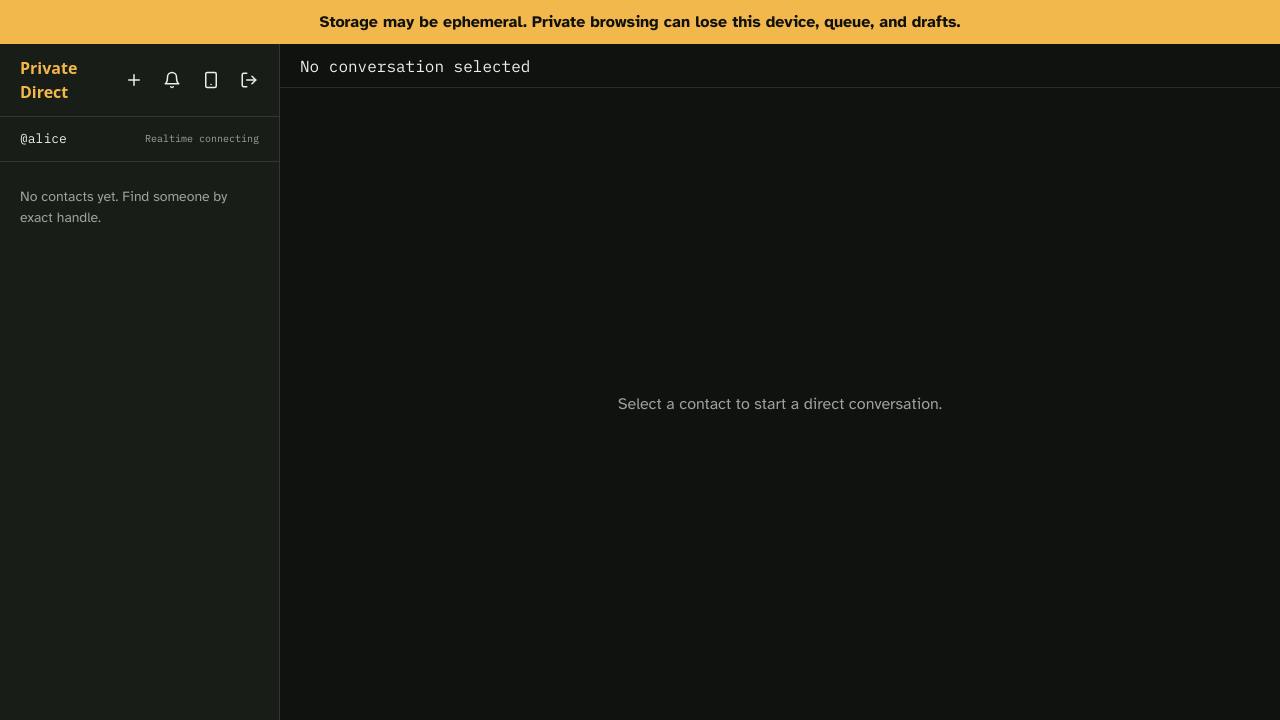
Test: contact consent flow › normalizes exact lookup and sends one predictable request
Click the button named "Add contact": (134, 80) [116,62,152,98]
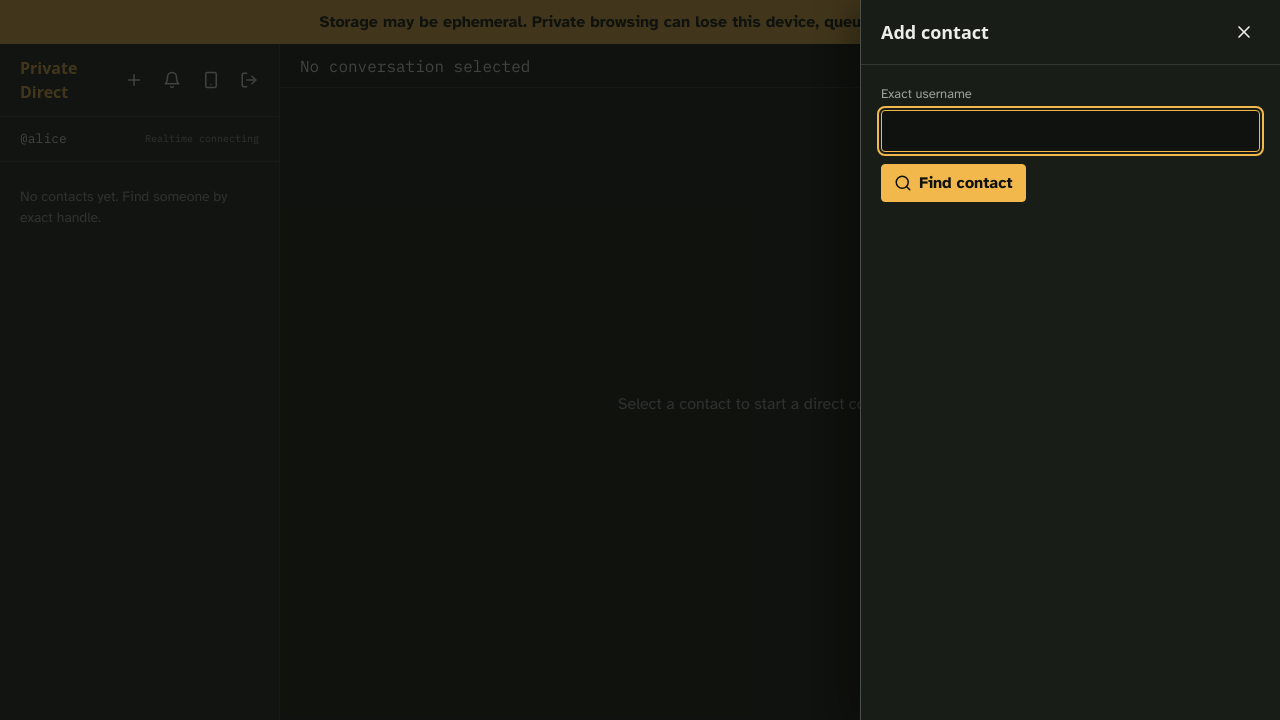
In the field labelled "Exact username": (1070, 131) [881,110,1260,152], type "  BoB  "
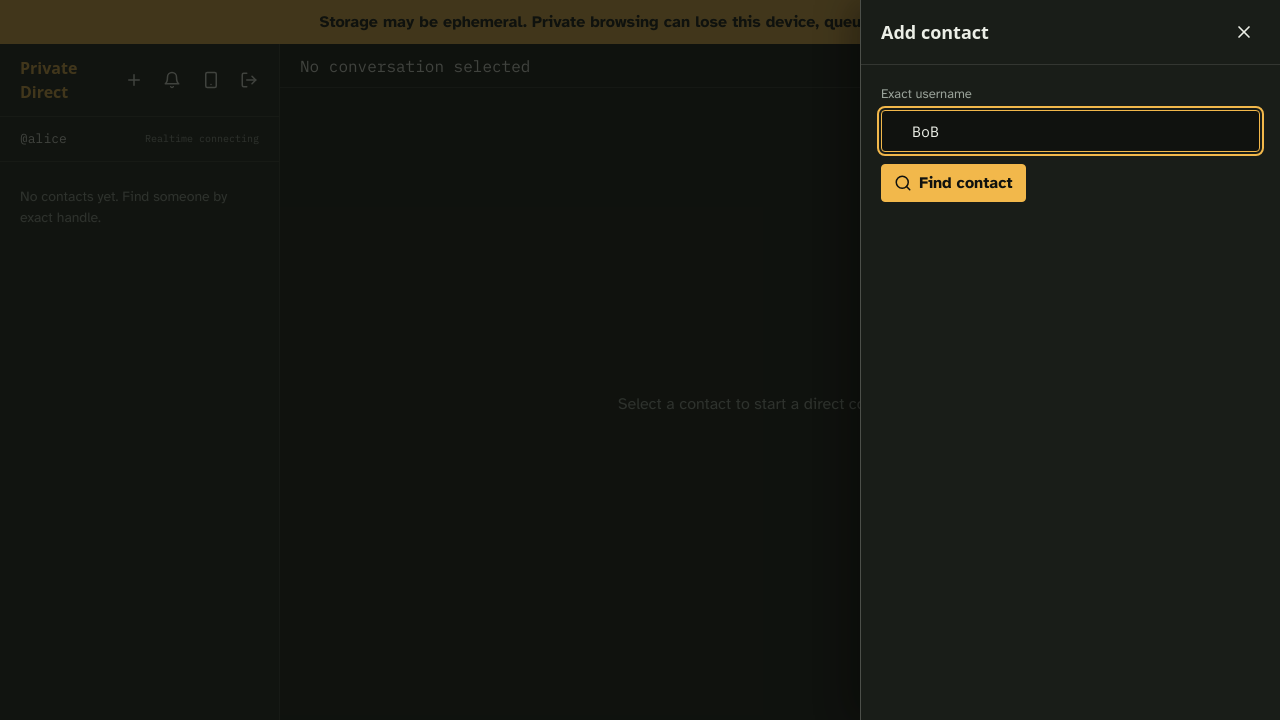
Click the button "Find contact": (953, 183) [881,164,1026,202]
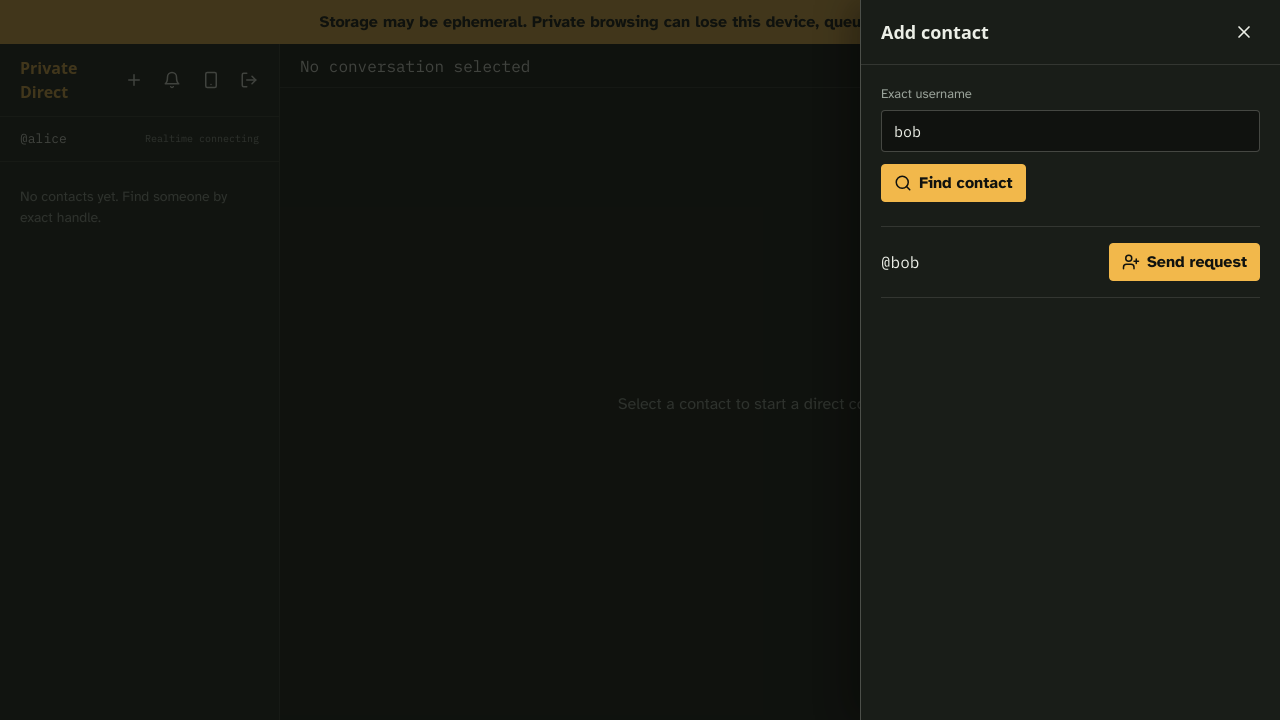
Double-click the button with aria-label "Send request to @bob": (1184, 262) [1109,243,1260,281]
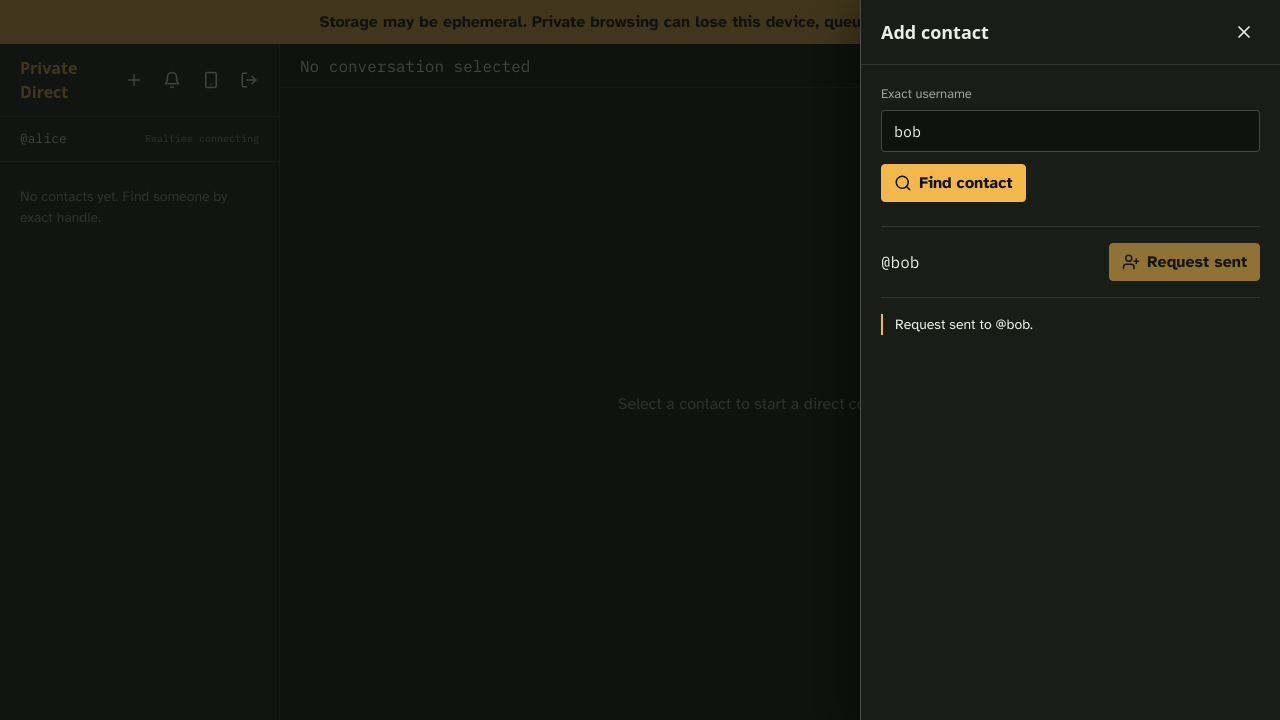
Check: the text "Request sent to @bob." is shown, box [881,314,1260,335]
Press Escape
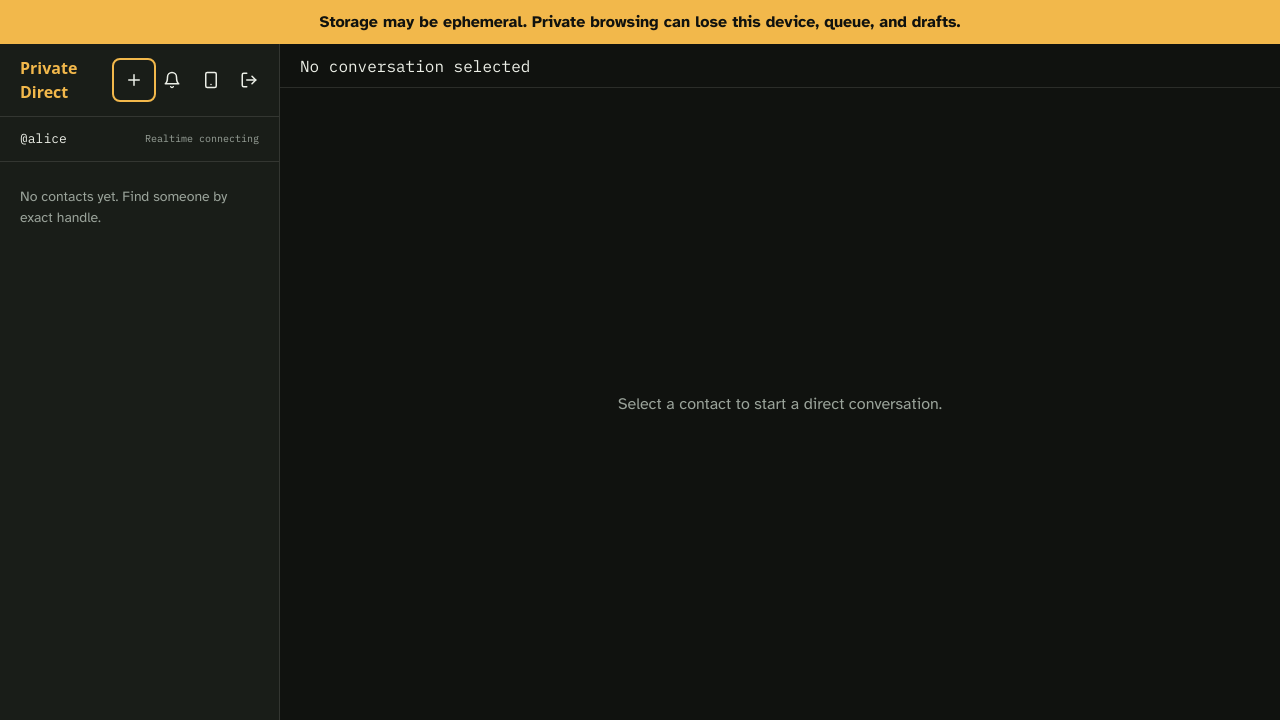
Check: the heading "Add contact" is gone
